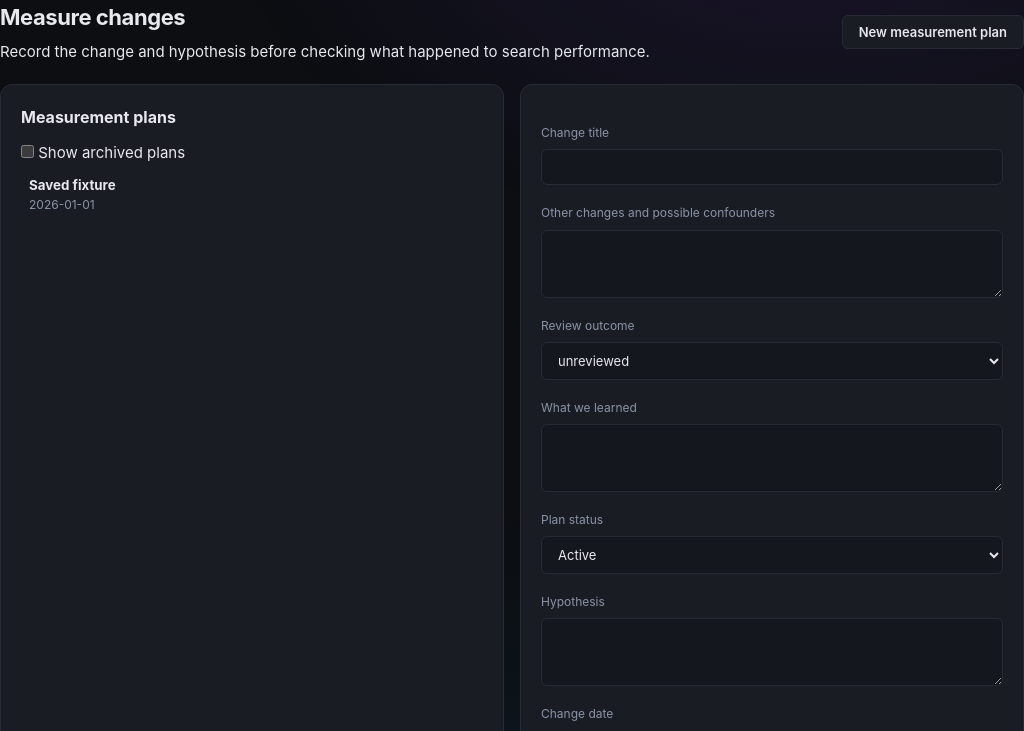
Test case: deletes and clears the saved draft through Delete measurement plan
The width and height of the screenshot is (1024, 731).
Click the button "Saved fixture 2026-01-01" at (72, 185), box [21,165,483,224]
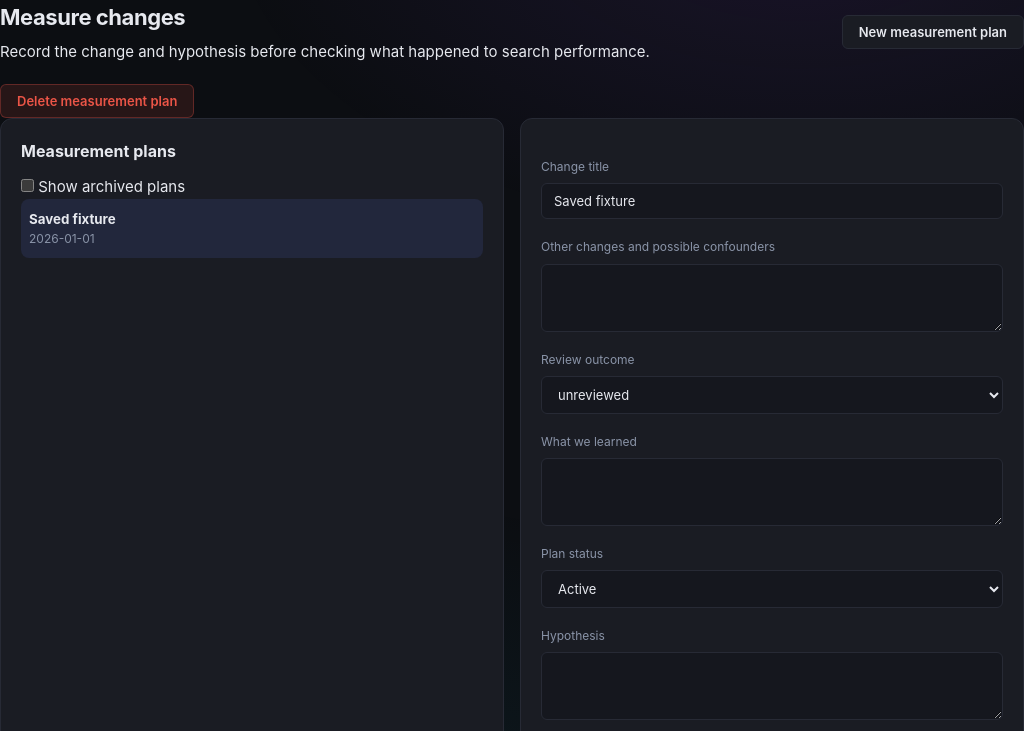
Replace the text in the field labelled "Change title" with "Unsaved edit" at (772, 201), box [541,183,1003,219]
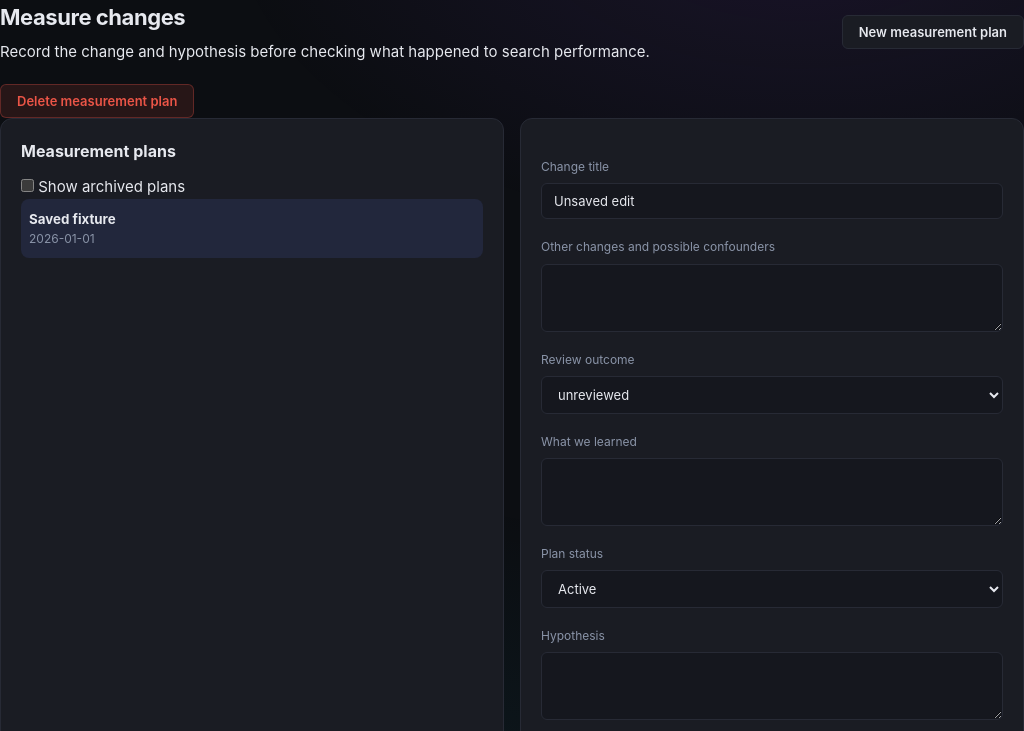
Click the button "Delete measurement plan" at (97, 101), box [0,84,194,118]
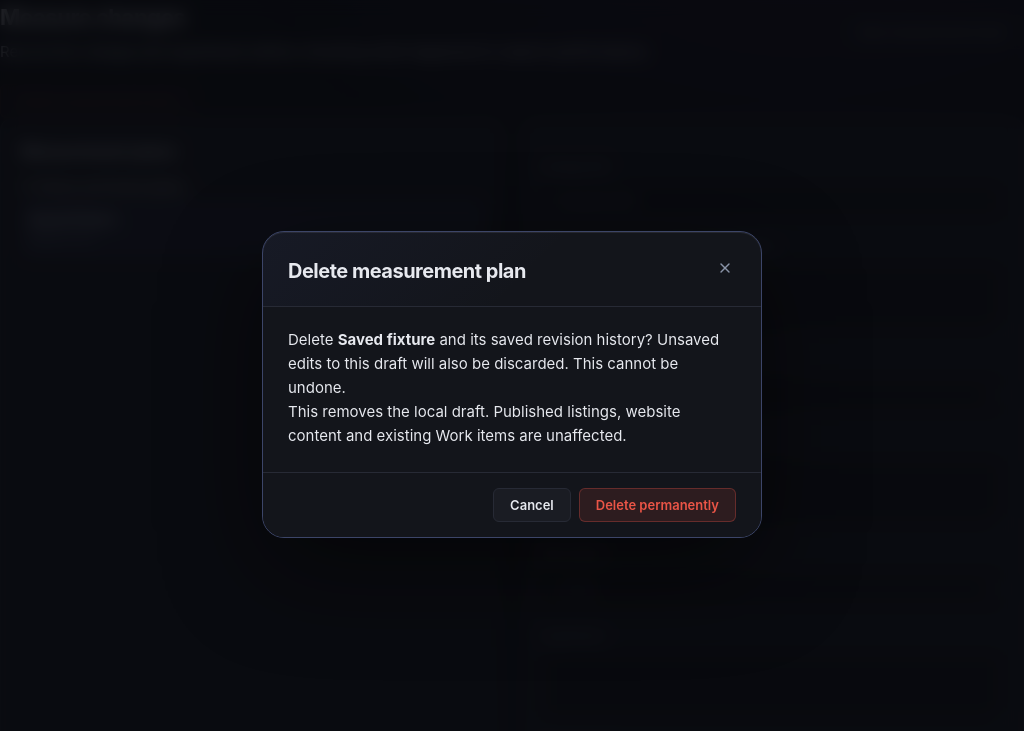
Check: the text "Saved fixture" is shown, box [338,330,435,348]
Click the button "Delete permanently" at (657, 504), box [579,488,736,522]
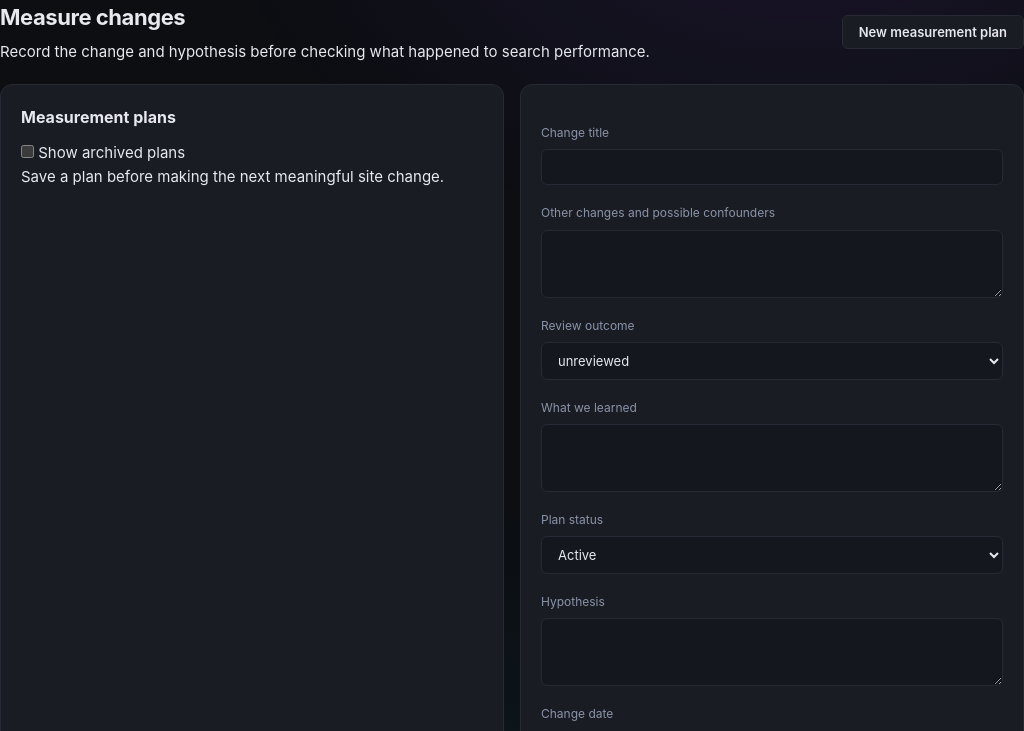
Check: the button "Saved fixture" is not shown
Check: the dialog is gone
